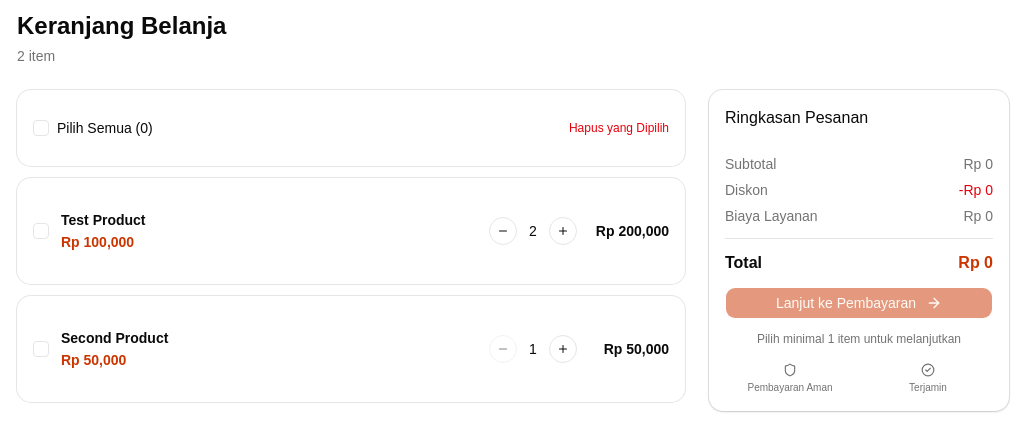
Test: Step1PurchaseCartPage Component Tests › allows selecting and deselecting items
expect the text "Test Product" is shown: met, box top-left (61, 212), bottom-right (146, 228)
Note: Click first item checkbox
Click the checkbox next to "Test Product".
click(41, 231)  # box top-left (33, 223), bottom-right (49, 239)
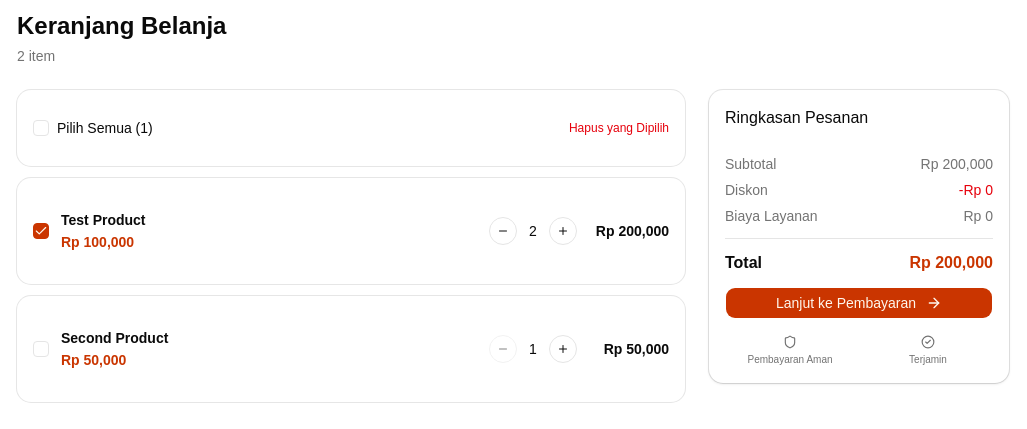
expect the text "Pilih Semua (1)" is shown: met, box top-left (57, 118), bottom-right (153, 138)
Note: Click second item checkbox
Click the checkbox next to "Second Product".
click(41, 349)  # box top-left (33, 341), bottom-right (49, 357)
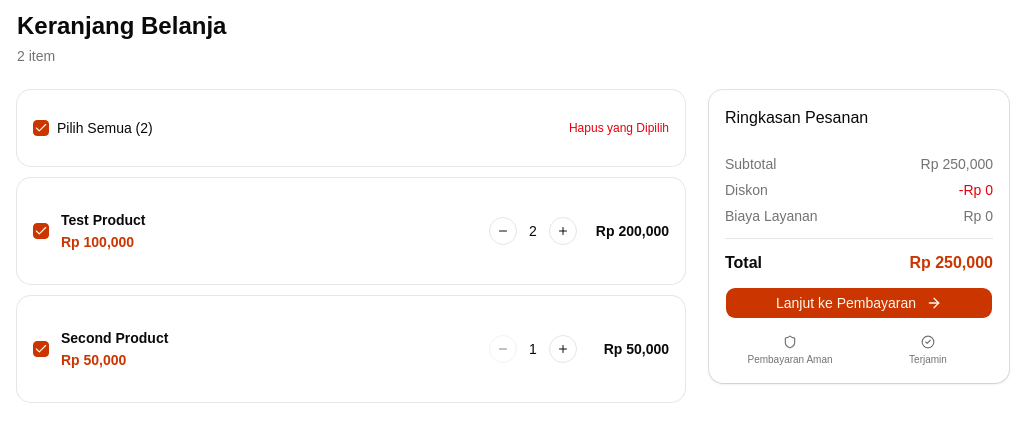
expect the text "Pilih Semua (2)" is shown: met, box top-left (57, 118), bottom-right (153, 138)
